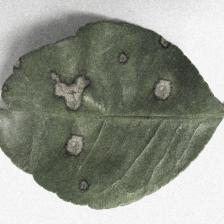canker: (44, 43, 162, 156)
